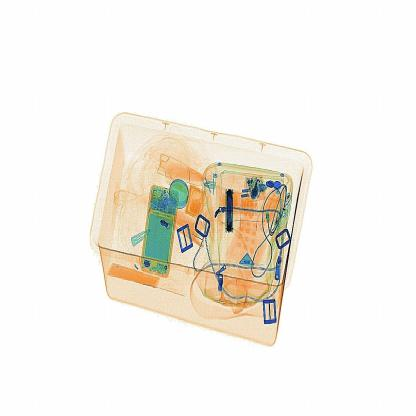scissors: (221, 186, 244, 236)
